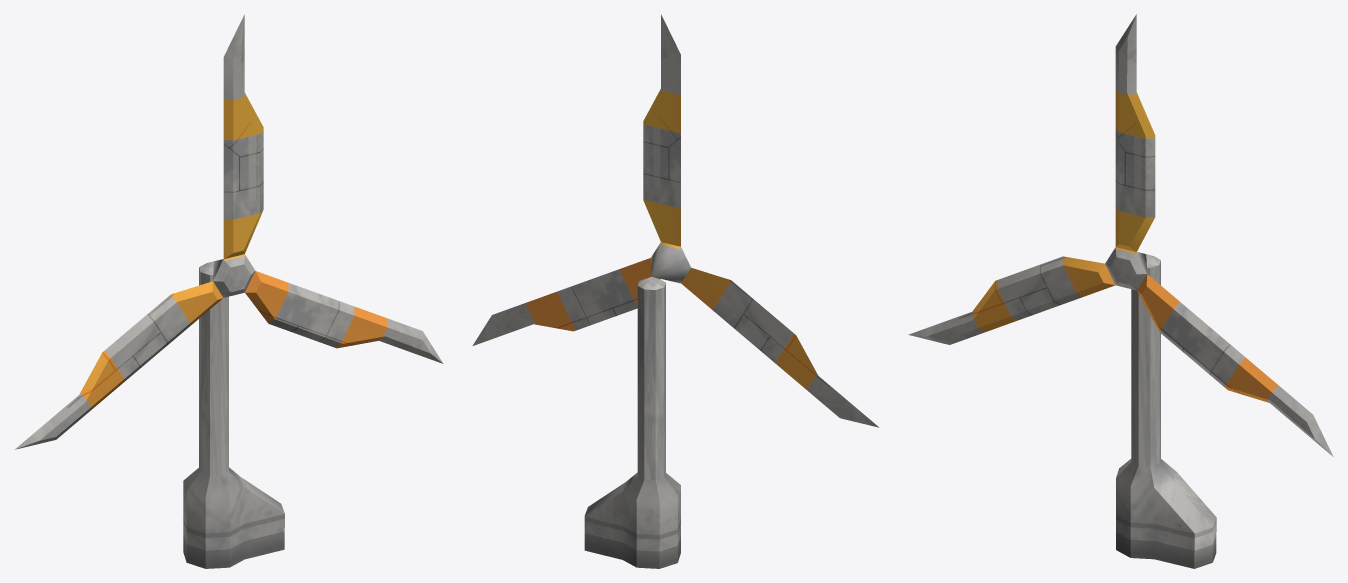
File: Wind_4.fbx
3 views of the same model, side by side, from view 1: azimuth 30°, elevation 25°; view 2: azimuth 150°, elevation 25°; view 3: azimuth 330°, elevation 25° (orthographic). The views are drawn at different scales.
Visible parts, largest first — view 1: Wind_blades_4, Wind_base_4; view 2: Wind_blades_4, Wind_base_4; view 3: Wind_blades_4, Wind_base_4.
Part boxes in pixels (x1,y1,x2,y2): Wind_blades_4: (14,14,443,449); Wind_base_4: (183,261,284,568); Wind_blades_4: (472,14,878,427); Wind_base_4: (584,277,680,568); Wind_blades_4: (908,14,1333,456); Wind_base_4: (1116,254,1216,568).
Bounding box in the file's own units: 111 × 137 × 17.5.
Materials: 1 (1 with a texture image).
